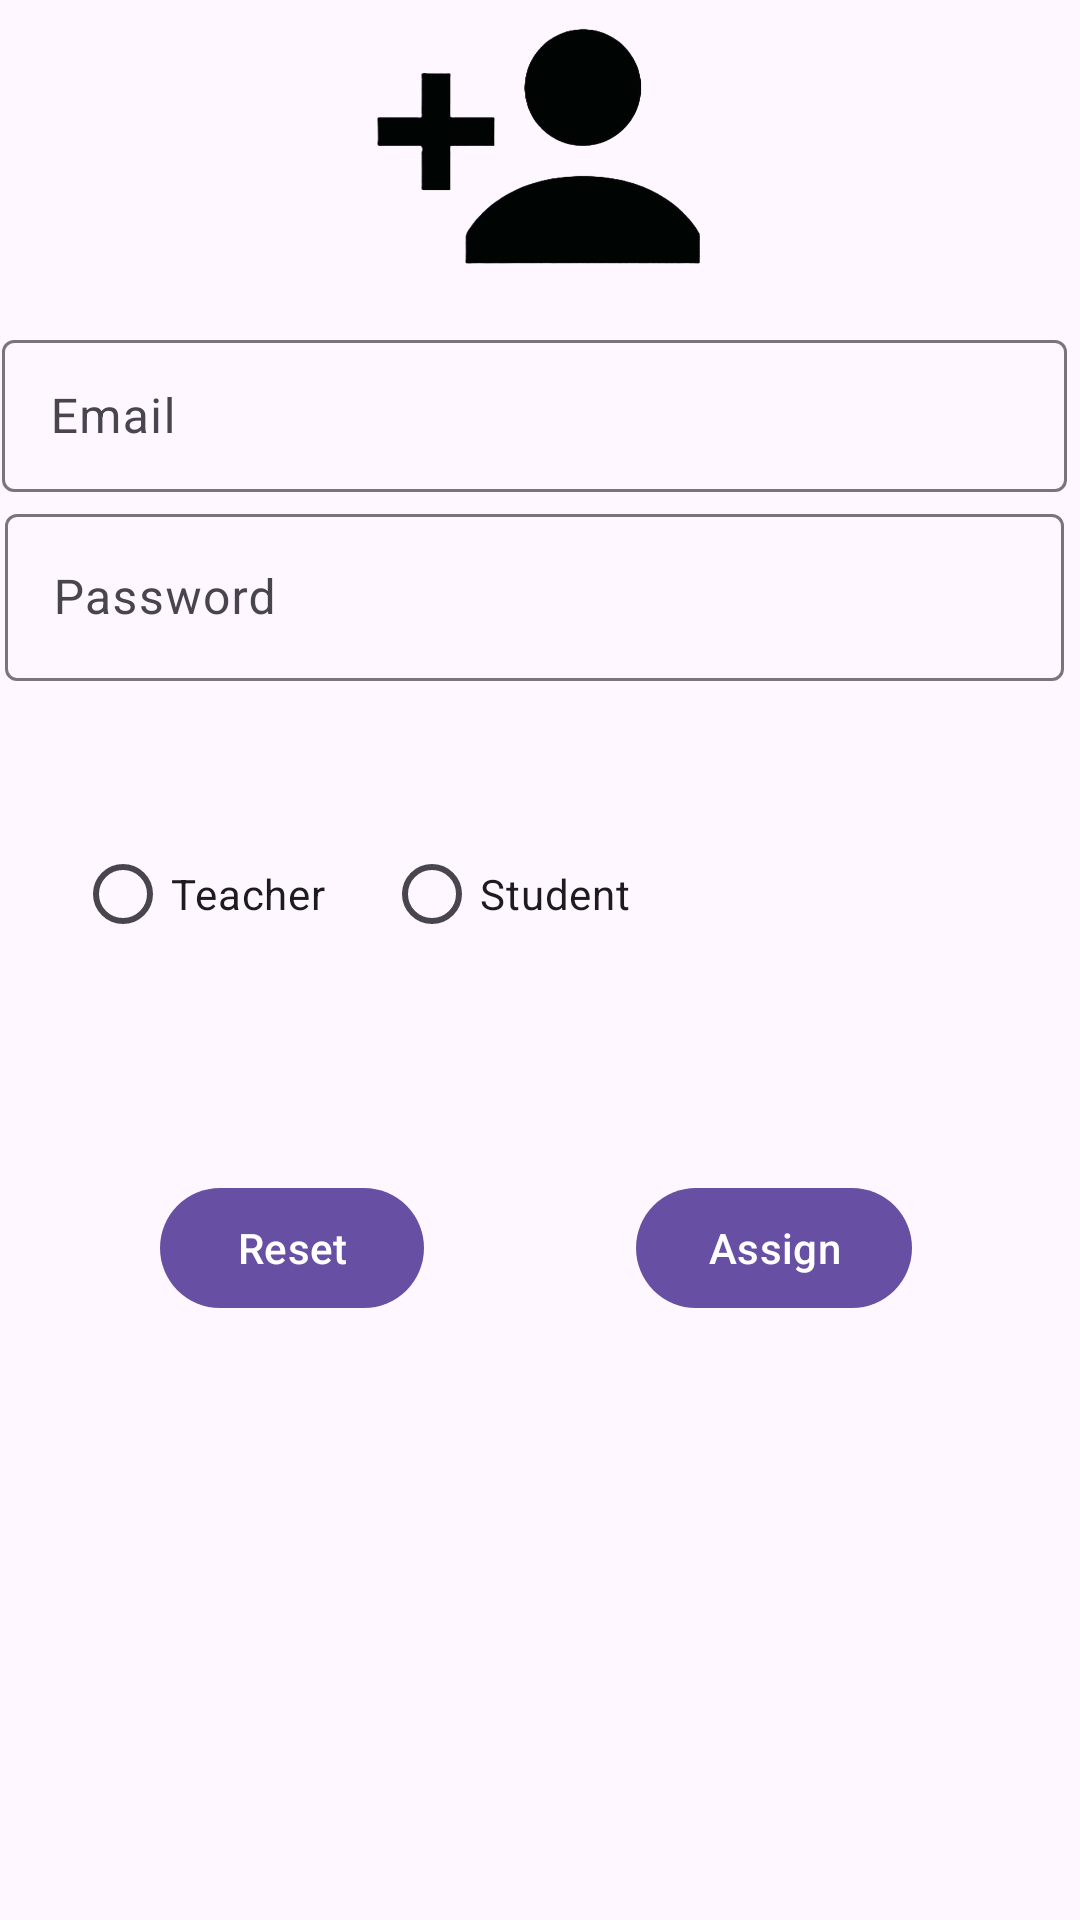

Named icons in this screenshot (1080x1920) and their centers, [x,y]:
add: [538,146]
